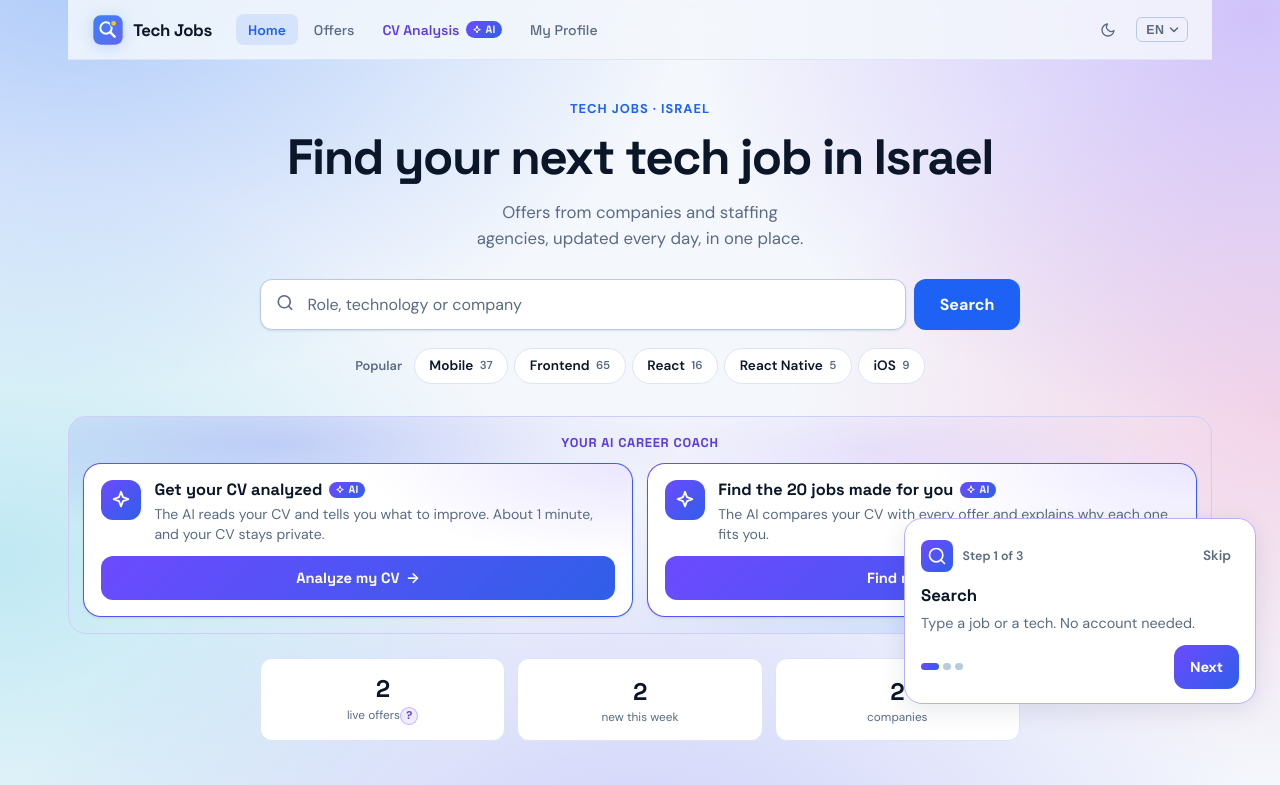
it: Autocomplete on the home page (integration) › an empty box offers the popular searches from the API
Click the dropdown named "Search offers". click: {"x": 583, "y": 305}
box: [260,279,906,330]
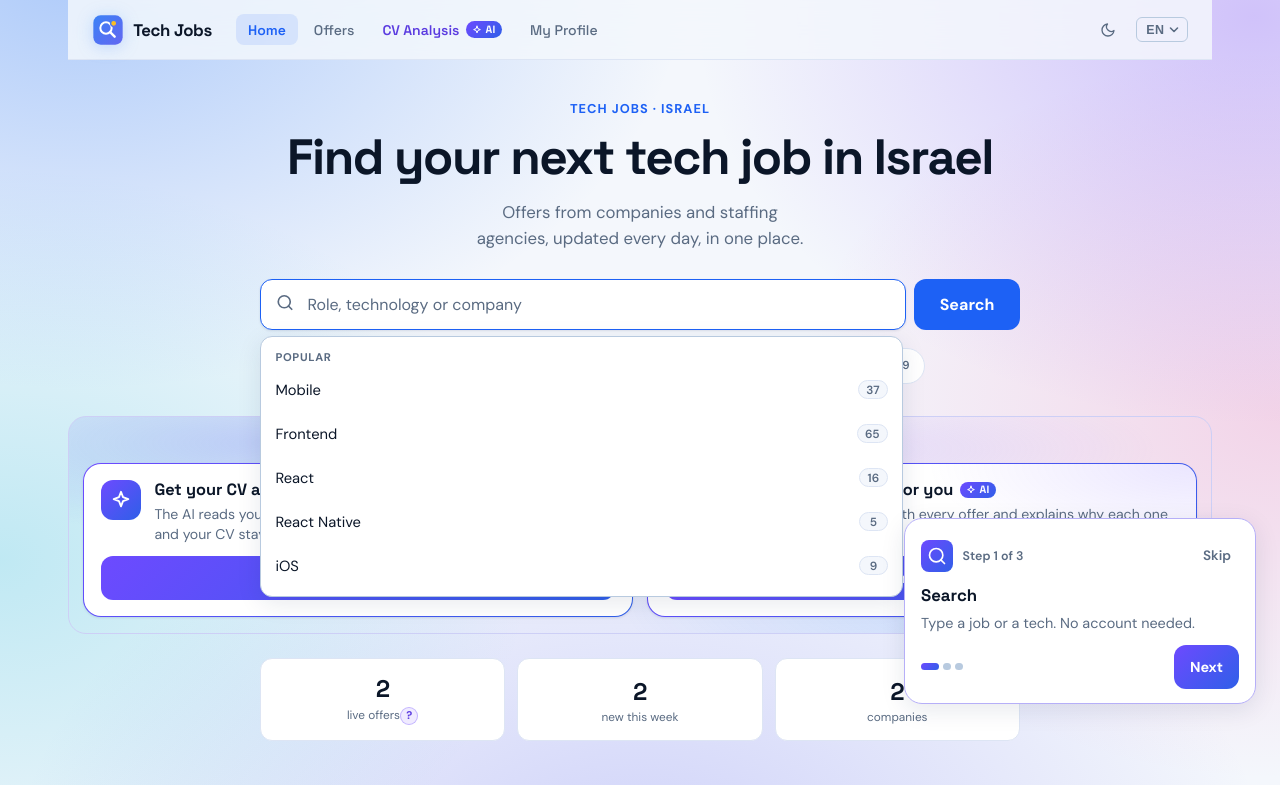
Check: the option "Mobile 37" is shown, box [275,380,888,400]
